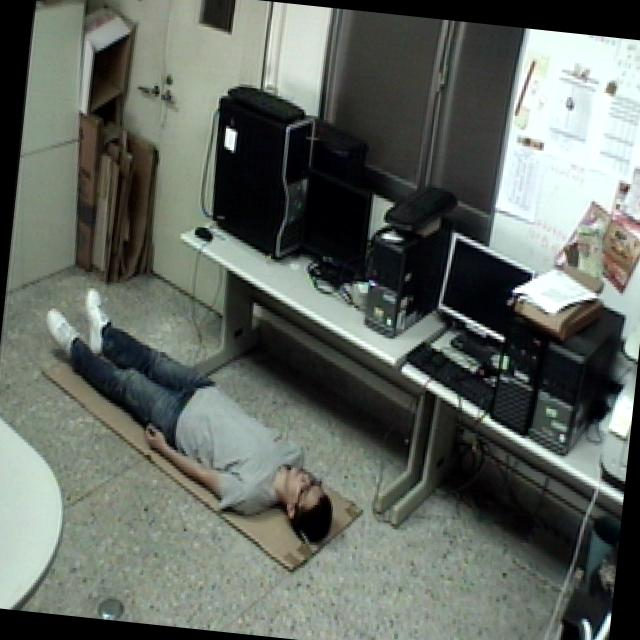lie: (20, 264, 367, 555)
